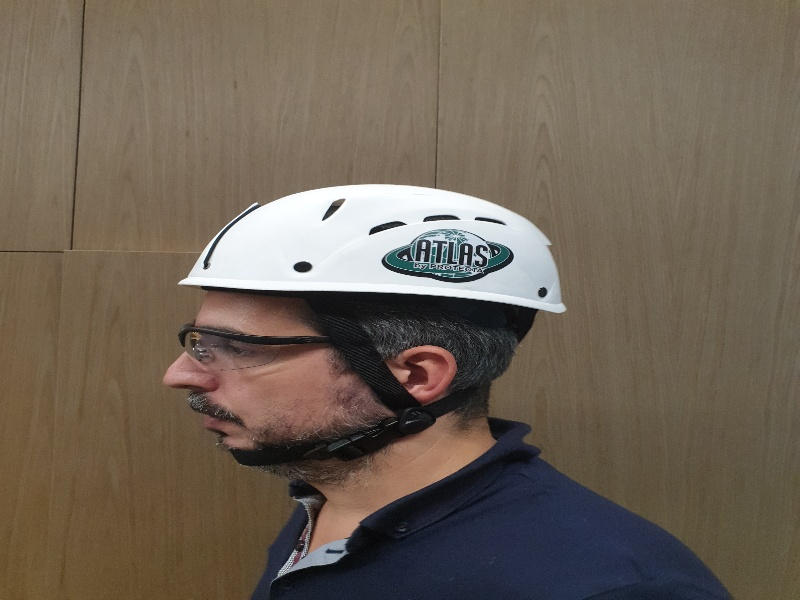Baret: (179, 184, 566, 313)
Gozluk: (175, 323, 384, 371)
